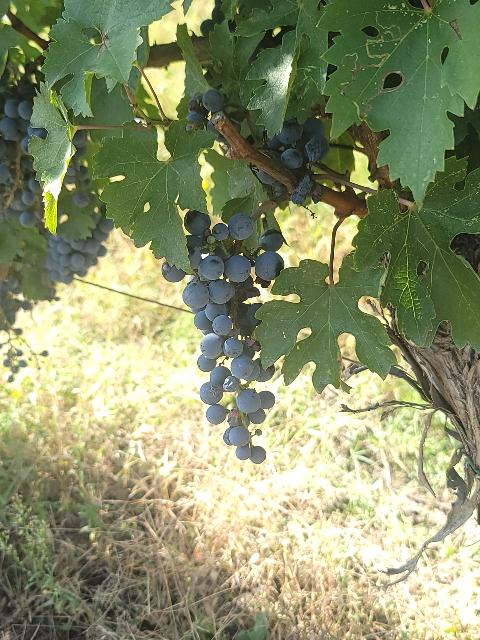grapes: (182, 210, 285, 464)
